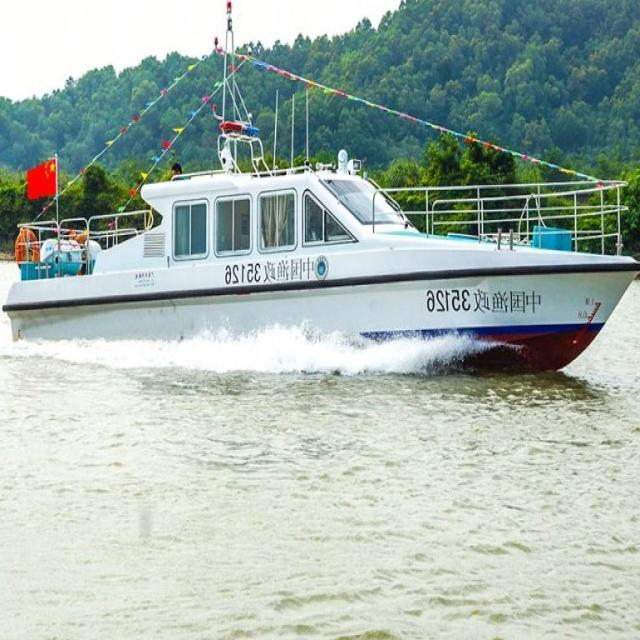houseboat: (17, 153, 634, 370)
